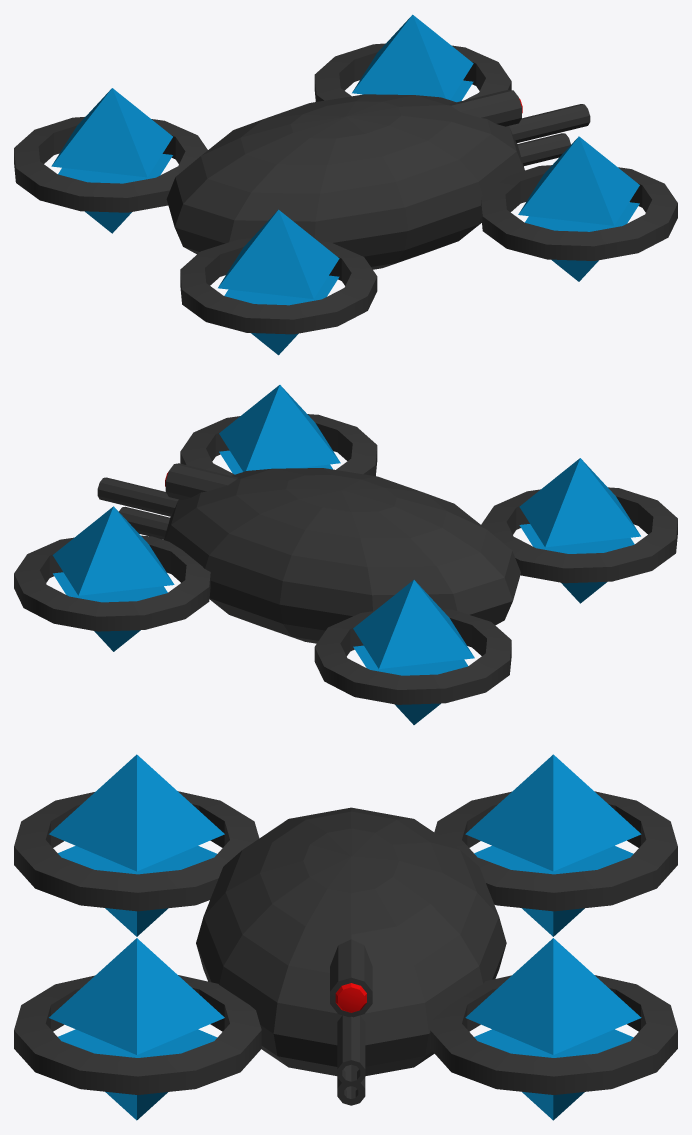
File: Drone01.fbx
The picture shows the model from 3 angles, top to bottom: view 1: azimuth 30°, elevation 25°; view 2: azimuth 150°, elevation 25°; view 3: azimuth 270°, elevation 25°; orthographic projection. The views are drawn at different scales.
Visible parts, largest first — view 1: Drone; view 2: Drone; view 3: Drone.
Part boxes in pixels (left/top/right/bottom): Drone: left=14, top=14, right=677, bottom=355; Drone: left=14, top=385, right=677, bottom=724; Drone: left=14, top=754, right=677, bottom=1120.
Size of the model in its own units: 5.51 by 1.62 by 5.32.
